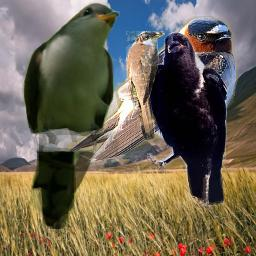Crow: (147, 31, 228, 210)
Cuckoo: (22, 2, 120, 229), (126, 31, 165, 140)
Swallow: (66, 16, 238, 169)
